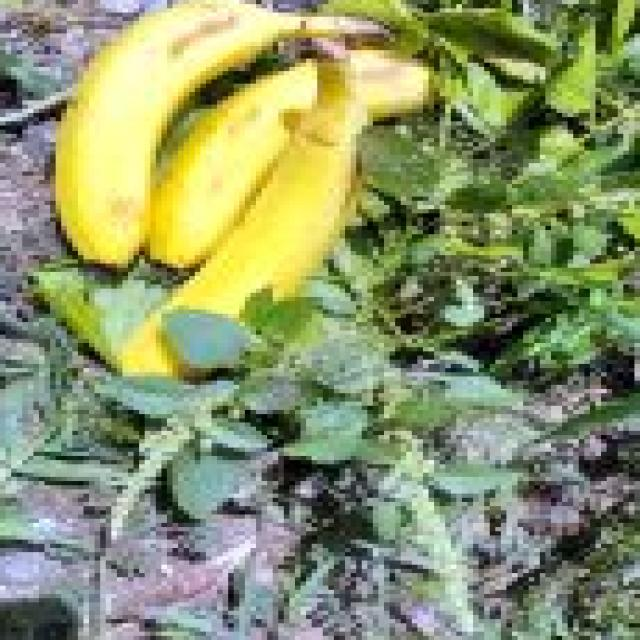Good_Banana-2-3 days: (56, 0, 431, 375)
